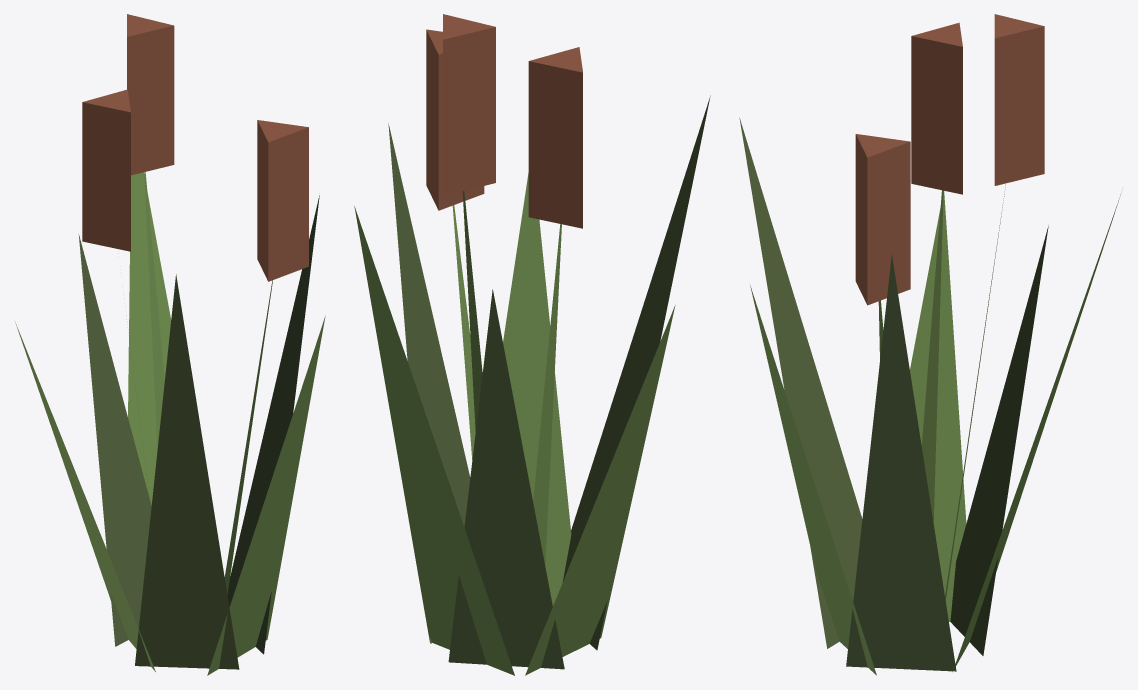
Rendered from plant_bulrush_a.obj.
3 renders of one model, left to right at view 1: azimuth 30°, elevation 25°; view 2: azimuth 150°, elevation 25°; view 3: azimuth 270°, elevation 25°, orthographic. The views are drawn at different scales.
Parts seen in each view (by area): view 1: plant_bulrush_a_4, plant_bulrush_a_2, plant_bulrush_a_5, plant_bulrush_a_1, plant_bulrush_a_9, plant_bulrush_a_7, plant_bulrush_a_11, plant_bulrush_a_0, plant_bulrush_a_3, plant_bulrush_a_10, plant_bulrush_a_8; view 2: plant_bulrush_a_2, plant_bulrush_a_1, plant_bulrush_a_5, plant_bulrush_a_3, plant_bulrush_a_7, plant_bulrush_a_11, plant_bulrush_a_0, plant_bulrush_a_4, plant_bulrush_a_9, plant_bulrush_a_6, plant_bulrush_a_10, plant_bulrush_a_8; view 3: plant_bulrush_a_0, plant_bulrush_a_4, plant_bulrush_a_2, plant_bulrush_a_3, plant_bulrush_a_9, plant_bulrush_a_7, plant_bulrush_a_11, plant_bulrush_a_5, plant_bulrush_a_6, plant_bulrush_a_1, plant_bulrush_a_10.
Part boxes in pixels (box(x1,y1,x2,y2)): plant_bulrush_a_4: box(135, 274, 239, 669); plant_bulrush_a_2: box(78, 234, 151, 646); plant_bulrush_a_5: box(207, 315, 325, 675); plant_bulrush_a_1: box(128, 172, 171, 505); plant_bulrush_a_9: box(257, 120, 308, 281); plant_bulrush_a_7: box(82, 89, 130, 251); plant_bulrush_a_11: box(127, 14, 174, 175); plant_bulrush_a_0: box(227, 195, 319, 654); plant_bulrush_a_3: box(15, 322, 155, 671); plant_bulrush_a_10: box(144, 172, 164, 449); plant_bulrush_a_8: box(224, 280, 272, 594); plant_bulrush_a_2: box(448, 289, 564, 669); plant_bulrush_a_1: box(354, 206, 514, 675); plant_bulrush_a_5: box(503, 173, 571, 605); plant_bulrush_a_3: box(525, 305, 675, 675); plant_bulrush_a_7: box(528, 47, 582, 228); plant_bulrush_a_11: box(443, 14, 495, 195); plant_bulrush_a_0: box(388, 123, 470, 643); plant_bulrush_a_4: box(563, 95, 710, 650); plant_bulrush_a_9: box(426, 29, 484, 210); plant_bulrush_a_6: box(533, 224, 561, 565); plant_bulrush_a_10: box(462, 191, 482, 430); plant_bulrush_a_8: box(452, 205, 475, 459); plant_bulrush_a_0: box(846, 254, 956, 671); plant_bulrush_a_4: box(739, 117, 862, 648); plant_bulrush_a_2: box(950, 226, 1048, 655); plant_bulrush_a_3: box(910, 191, 966, 621); plant_bulrush_a_9: box(855, 134, 910, 305); plant_bulrush_a_7: box(911, 22, 962, 194); plant_bulrush_a_11: box(994, 14, 1044, 185); plant_bulrush_a_5: box(750, 285, 876, 675); plant_bulrush_a_6: box(921, 190, 943, 522); plant_bulrush_a_1: box(952, 193, 1121, 671); plant_bulrush_a_10: box(945, 184, 1005, 599).
Size of the model in its own units: 0.4643 by 0.92 by 0.5189.
